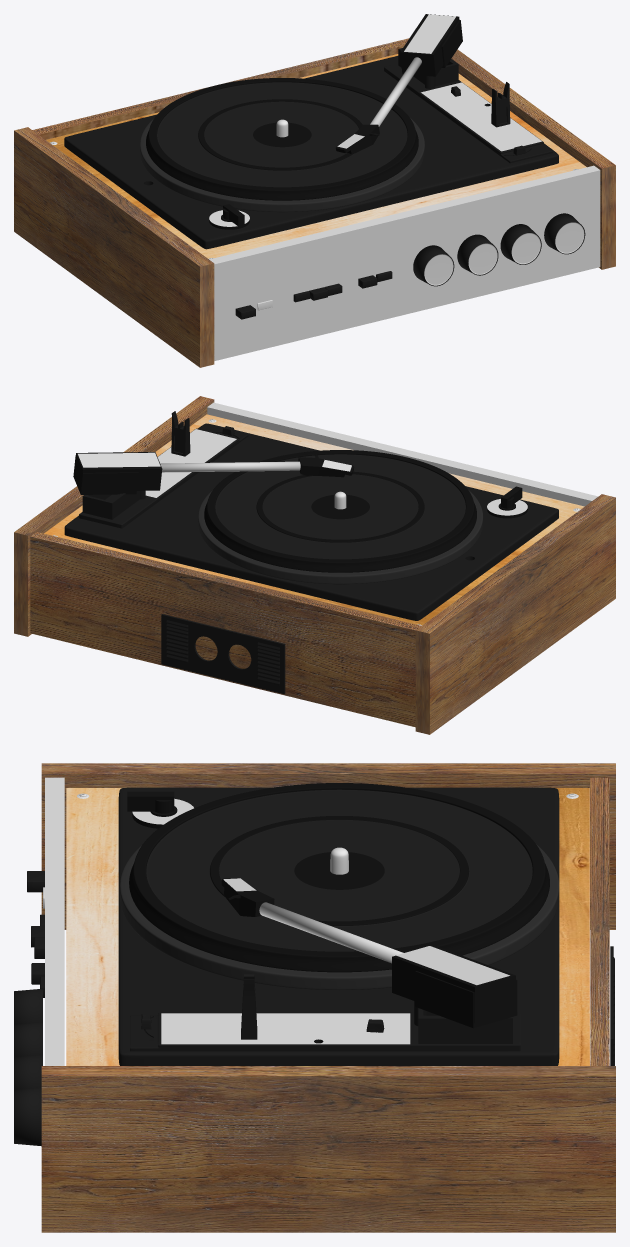
Rendered from Akkord201Stereo 1.fbx.
3 renders of one model, top to bottom at view 1: azimuth 30°, elevation 25°; view 2: azimuth 150°, elevation 25°; view 3: azimuth 270°, elevation 25°, orthographic. The views are drawn at different scales.
Visible parts, largest first — view 1: Cube, Circle, Cube.001, Cube.005, Cube.004, Cube.003, Cube.002, Plane.001, Cube.006, Cylinder.001, Cylinder, Cylinder.003 (+9 smaller); view 2: Cube.002, Circle, Cube.001, Cube.005, Cube.013, Cube.004, Cube, Cube.003, Plane.001, Cube.006, Cylinder.005, Cube.009 (+6 smaller); view 3: Cube.003, Circle, Cube.005, Cube.004, Cube.001, Plane.001, Cube.002, Cube, Cube.006, Cube.008, Cube.009, Cylinder.007 (+9 smaller).
Part boxes in pixels (x1,y1,x2,y2): Cube: [209, 165, 600, 360]; Circle: [140, 78, 424, 212]; Cube.001: [14, 127, 214, 367]; Cube.005: [64, 56, 558, 249]; Cube.004: [46, 54, 586, 258]; Cube.003: [451, 49, 615, 269]; Cube.002: [32, 38, 409, 139]; Plane.001: [421, 82, 542, 151]; Cube.006: [384, 63, 552, 163]; Cylinder.001: [457, 234, 498, 275]; Cylinder: [413, 245, 454, 286]; Cylinder.003: [544, 213, 585, 254]; Cube.002: [30, 532, 421, 727]; Circle: [198, 450, 483, 584]; Cube.001: [415, 494, 615, 734]; Cube.005: [64, 423, 558, 620]; Cube.013: [161, 614, 285, 694]; Cube.004: [44, 414, 584, 625]; Cube: [207, 402, 598, 506]; Cube.003: [14, 396, 214, 636]; Plane.001: [145, 429, 236, 497]; Cube.006: [79, 423, 248, 528]; Cylinder.005: [160, 461, 300, 472]; Cube.009: [73, 457, 138, 494]; Cube.003: [41, 1066, 615, 1232]; Circle: [119, 783, 559, 990]; Cube.005: [118, 787, 559, 1065]; Cube.004: [66, 788, 589, 1065]; Cube.001: [41, 763, 615, 929]; Plane.001: [161, 1013, 410, 1044]; Cube.002: [590, 777, 609, 1065]; Cube: [45, 777, 64, 1065]; Cube.006: [130, 1012, 520, 1051]; Cube.008: [392, 945, 515, 1023]; Cube.009: [415, 971, 517, 1027]; Cylinder.007: [414, 1001, 512, 1043].
Size of the model in its own units: 258 by 89.63 by 210.
